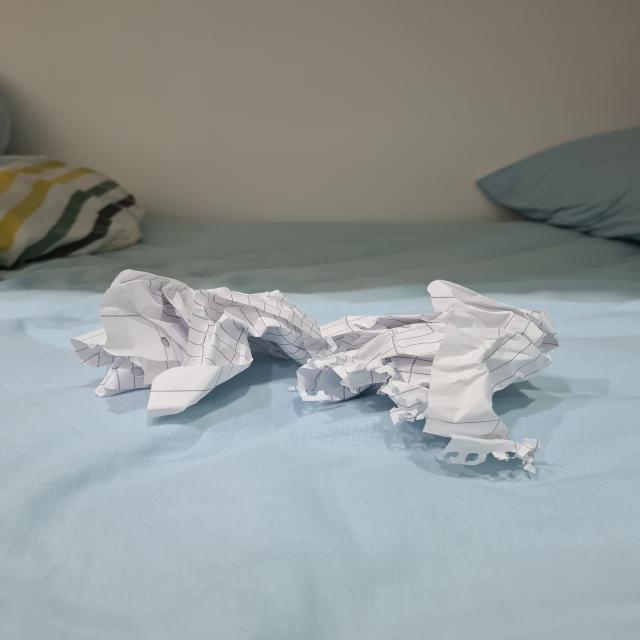Paper: (71, 265, 562, 469)
